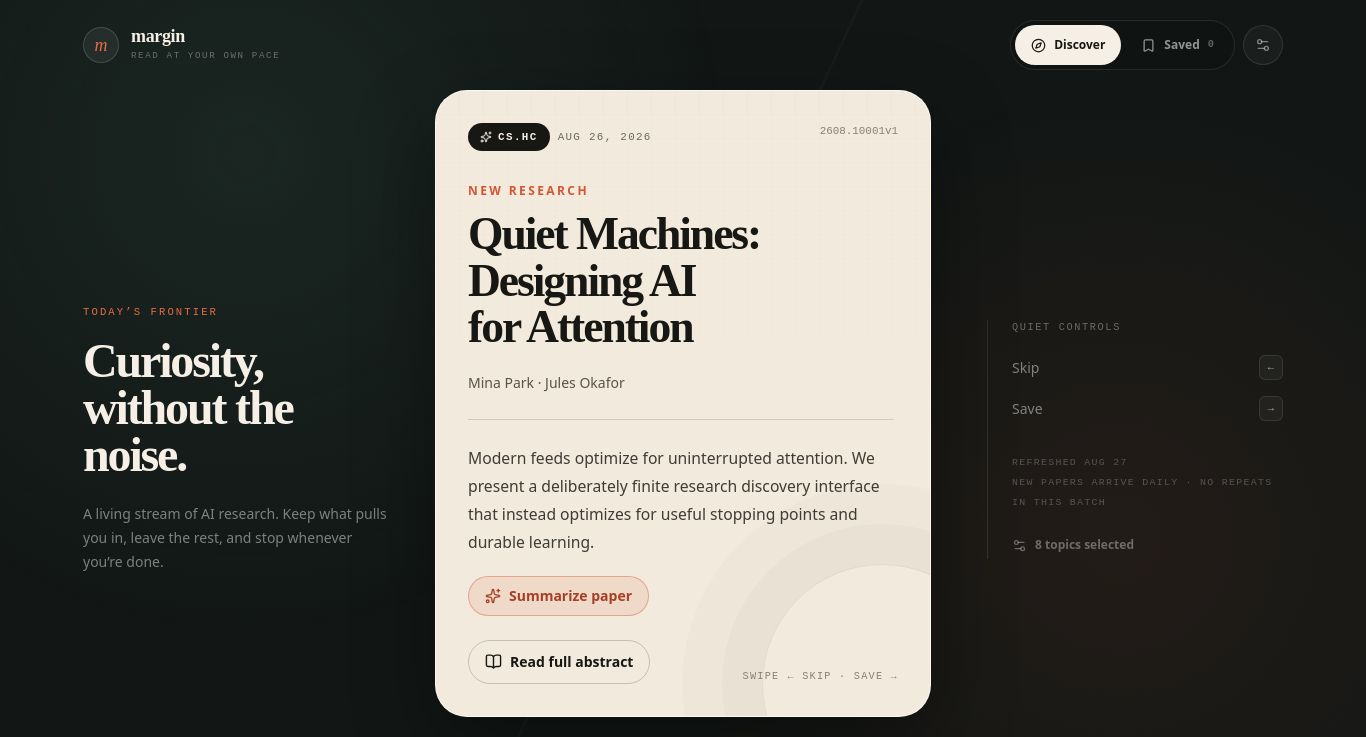
Scenario: DiscoveryApp › redirects to the direct PDF and advances without saving on a right swipe
Press the mouse on the element that starts with "cs.HC" at (683, 403), box [435,90,931,717]
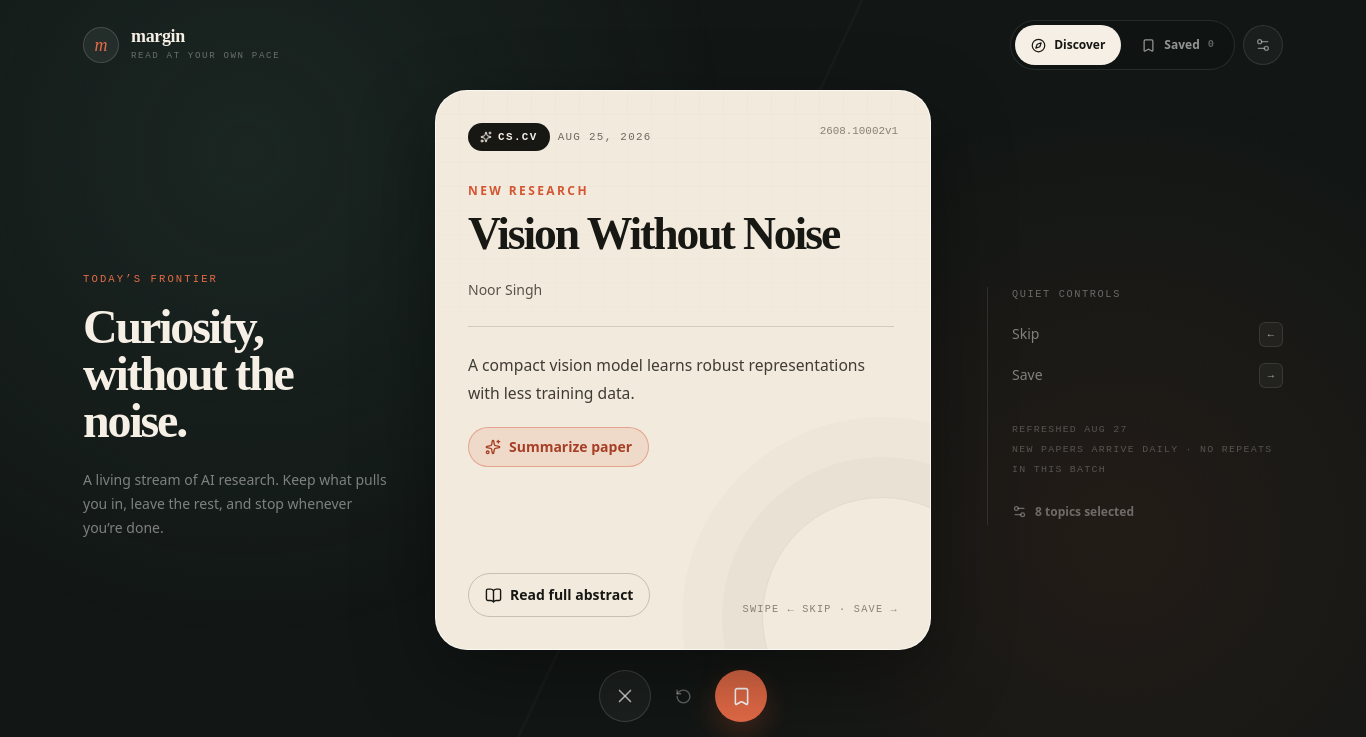
Expected: the button with aria-label "Saved papers, 0" is shown, [1125,25,1230,65]
Now the heading "Vision Without Noise" is shown, box [468,211,878,258]
